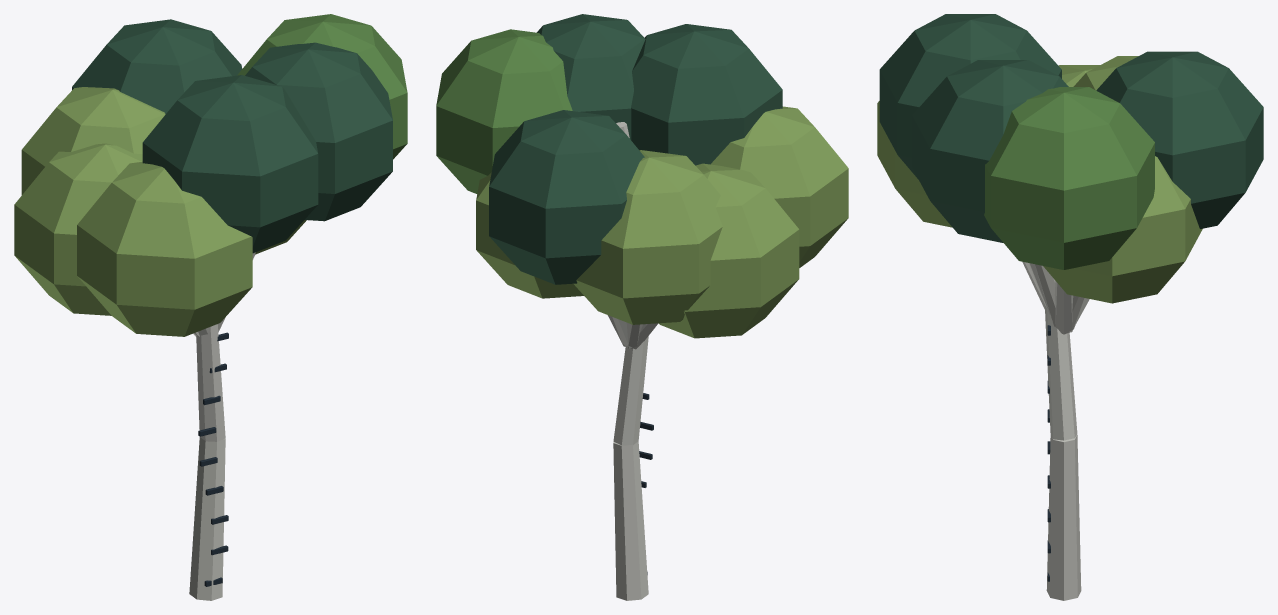
Rendered from vegetation-birch.lod0.glb.
3 views of the same model, side by side, from view 1: azimuth 30°, elevation 25°; view 2: azimuth 150°, elevation 25°; view 3: azimuth 270°, elevation 25° (orthographic). The views are drawn at different scales.
Visible parts, largest first — view 1: vegetation-birch__body; view 2: vegetation-birch__body; view 3: vegetation-birch__body.
Part boxes in pixels (bbox=[...]): vegetation-birch__body: bbox=[14, 14, 407, 600]; vegetation-birch__body: bbox=[436, 14, 848, 600]; vegetation-birch__body: bbox=[877, 14, 1263, 600].
Bounding box in the file's own units: 4.31 × 6.34 × 3.93.
